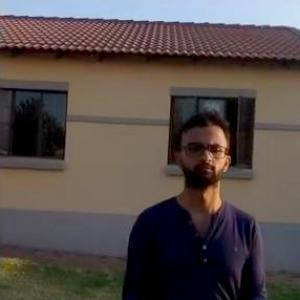follow: (112, 93, 272, 299)
